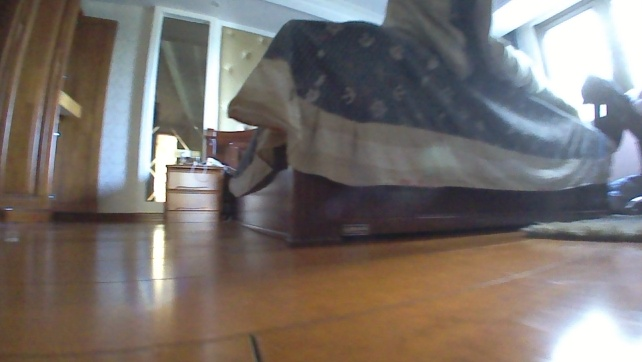bed: (202, 17, 617, 248)
blanket: (518, 211, 641, 242)
cabinet: (163, 160, 229, 215)
